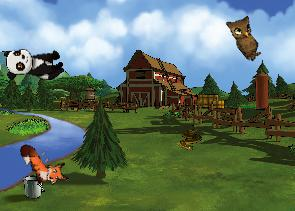fox: (16, 132, 72, 194)
owl: (221, 9, 272, 63)
panda: (4, 47, 64, 80)
